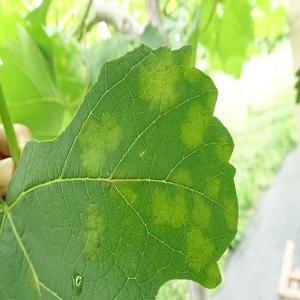Folha: (0, 41, 240, 300)
Fungo: (134, 50, 186, 113), (153, 160, 192, 236), (80, 114, 126, 174), (76, 205, 109, 258), (182, 99, 210, 152), (106, 163, 138, 207), (186, 228, 214, 276), (178, 41, 201, 85), (224, 190, 240, 241), (203, 72, 221, 116), (214, 128, 232, 168), (202, 169, 220, 207), (192, 189, 212, 222), (208, 262, 218, 288)
